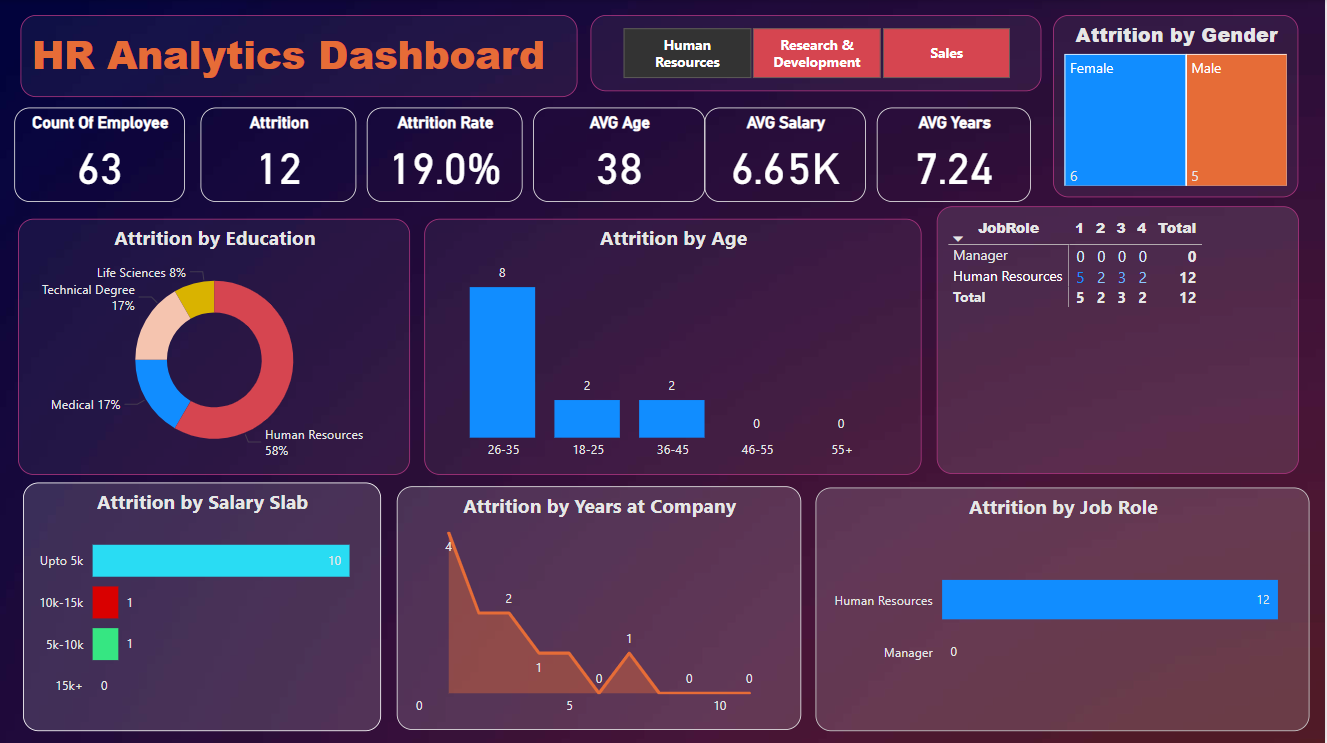

The dashboard page shown, as its layout file describes it:
{"tool":"powerbi","page":{"name":"Page 1","canvas":[1280,720],"ordinal":0},"visuals":[{"type":"card","title":"Count Of Employee","fields":{"Values":["CountNonNull(HR_Analytics.EmpID)"]},"box":[15.9,104,164.7,91],"z":0},{"type":"card","title":"Attrition","fields":{"Values":["Sum(HR_Analytics.Attrition Count)"]},"box":[195.1,104,150.3,91],"z":1000},{"type":"card","title":"Attrition Rate","fields":{"Values":["HR_Analytics.Attrition Rate"]},"box":[355.5,104,150.3,91],"z":2000},{"type":"card","title":"AVG Age","fields":{"Values":["Avg(HR_Analytics.Age)"]},"box":[515.9,104,166.2,91],"z":3000},{"type":"card","title":"AVG Salary","fields":{"Values":["Avg(HR_Analytics.MonthlyIncome)"]},"box":[682.1,104,156.1,91],"z":4000},{"type":"card","title":"AVG Years","fields":{"Values":["Avg(HR_Analytics.YearsAtCompany)"]},"box":[848.2,104,148.8,91],"z":5000},{"type":"donutChart","title":"Attrition by Education","fields":{"Category":["HR_Analytics.EducationField"],"Y":["Sum(HR_Analytics.Attrition Count)"]},"box":[18.8,211,378.6,247.1],"z":6000},{"type":"columnChart","title":"Attrition by Age","fields":{"Category":["HR_Analytics.AgeGroup"],"Y":["Sum(HR_Analytics.Attrition Count)"]},"box":[411.8,211,479.7,247.1],"z":7000},{"type":"pivotTable","fields":{"Rows":["HR_Analytics.JobRole"],"Columns":["HR_Analytics.JobSatisfaction"],"Values":["Sum(HR_Analytics.Attrition Count)"]},"box":[906,199.4,349.7,258.7],"z":8000},{"type":"barChart","title":"Attrition by Salary Slab","fields":{"Category":["HR_Analytics.SalarySlab"],"Y":["Sum(HR_Analytics.Attrition Count)"]},"box":[24.6,465.3,345.4,239.9],"z":9000},{"type":"barChart","title":"Attrition by Job Role","fields":{"Y":["Sum(HR_Analytics.Attrition Count)"],"Category":["HR_Analytics.JobRole"]},"box":[789,471.1,476.9,235.5],"z":10000},{"type":"areaChart","title":"Attrition by Years at Company","fields":{"Category":["HR_Analytics.YearsAtCompany"],"Y":["Sum(HR_Analytics.Attrition Count)"]},"box":[384.4,469.6,390.2,235.5],"z":11000},{"type":"treemap","title":"Attrition by Gender","fields":{"Group":["HR_Analytics.Gender"],"Values":["Sum(HR_Analytics.Attrition Count)"]},"box":[1018.7,14.5,237,176.3],"z":12000},{"type":"slicer","fields":{"Values":["HR_Analytics.Department"]},"box":[572.2,14.5,435,73.7],"z":13000},{"type":"textbox","box":[21.7,14.5,537.5,79.5],"z":14000}]}

Visuals, with their boxes in screenshot pixels (x1, y1, x2, y2), scaled from the page's 1280x720 canvas onto the 1327x743 screenshot:
"Count Of Employee" card: l=16, t=107, r=187, b=201
"Attrition" card: l=202, t=107, r=358, b=201
"Attrition Rate" card: l=369, t=107, r=524, b=201
"AVG Age" card: l=535, t=107, r=707, b=201
"AVG Salary" card: l=707, t=107, r=869, b=201
"AVG Years" card: l=879, t=107, r=1034, b=201
"Attrition by Education" donutChart: l=19, t=218, r=412, b=473
"Attrition by Age" columnChart: l=427, t=218, r=924, b=473
pivotTable - HR_Analytics.JobRole x HR_Analytics.JobSatisfaction: l=939, t=206, r=1302, b=473
"Attrition by Salary Slab" barChart: l=26, t=480, r=384, b=728
"Attrition by Job Role" barChart: l=818, t=486, r=1312, b=729
"Attrition by Years at Company" areaChart: l=399, t=485, r=803, b=728
"Attrition by Gender" treemap: l=1056, t=15, r=1302, b=197
slicer - HR_Analytics.Department: l=593, t=15, r=1044, b=91
textbox: l=22, t=15, r=580, b=97
